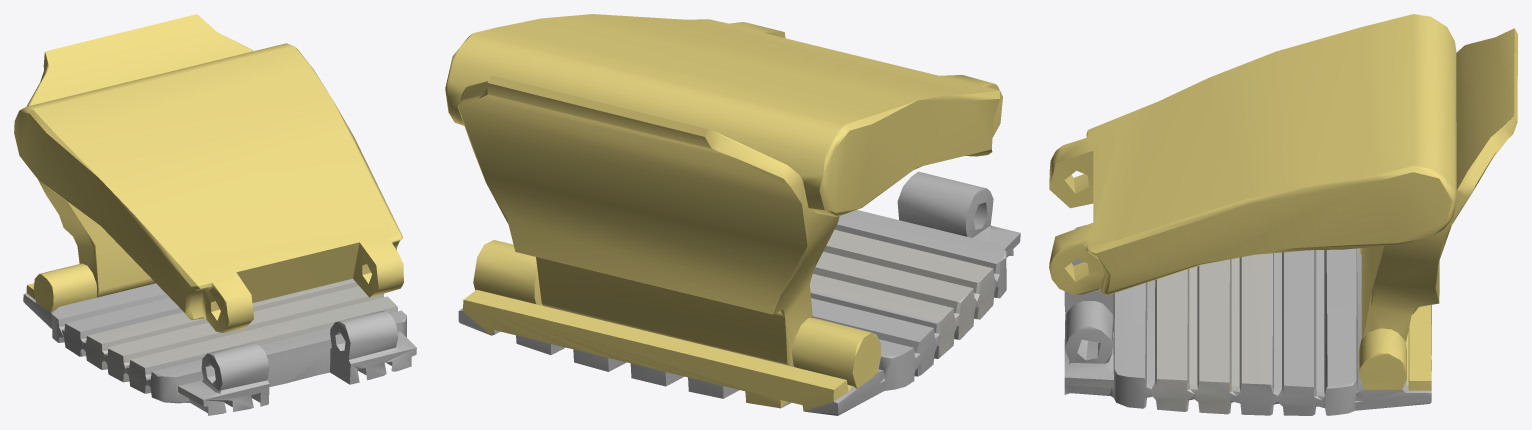
File: link_finger_base_simplified.3obj.obj
3 renders of one model, left to right at view 1: azimuth 30°, elevation 25°; view 2: azimuth 150°, elevation 25°; view 3: azimuth 270°, elevation 25°, orthographic. The views are drawn at different scales.
Visible parts, largest first — view 1: link_finger_base_simplified whole_robot; view 2: link_finger_base_simplified whole_robot; view 3: link_finger_base_simplified whole_robot.
Boxes of the visible parts, x1=… form: link_finger_base_simplified whole_robot: x1=14, y1=14, x2=416, y2=415; link_finger_base_simplified whole_robot: x1=445, y1=14, x2=1020, y2=415; link_finger_base_simplified whole_robot: x1=1049, y1=14, x2=1517, y2=415.
Size of the model in its own units: 0.0479 by 0.0373 by 0.0574.
